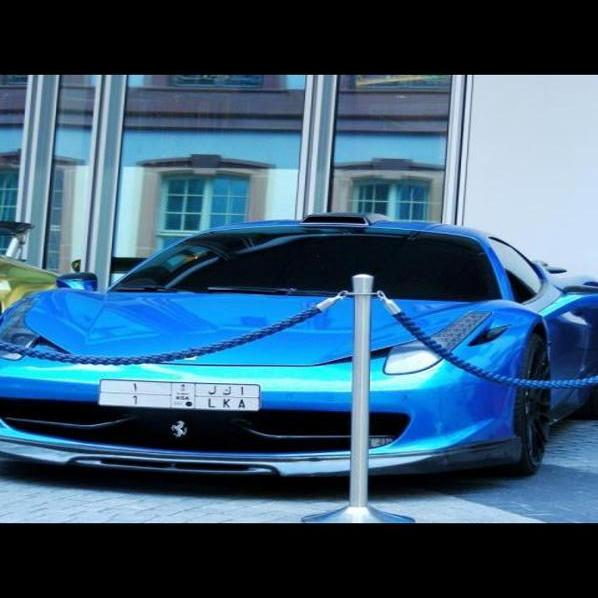numberplate: (100, 379, 260, 413)
